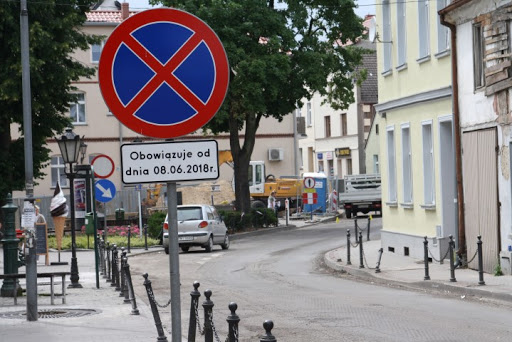no_stopping_sign: (99, 7, 229, 140)
